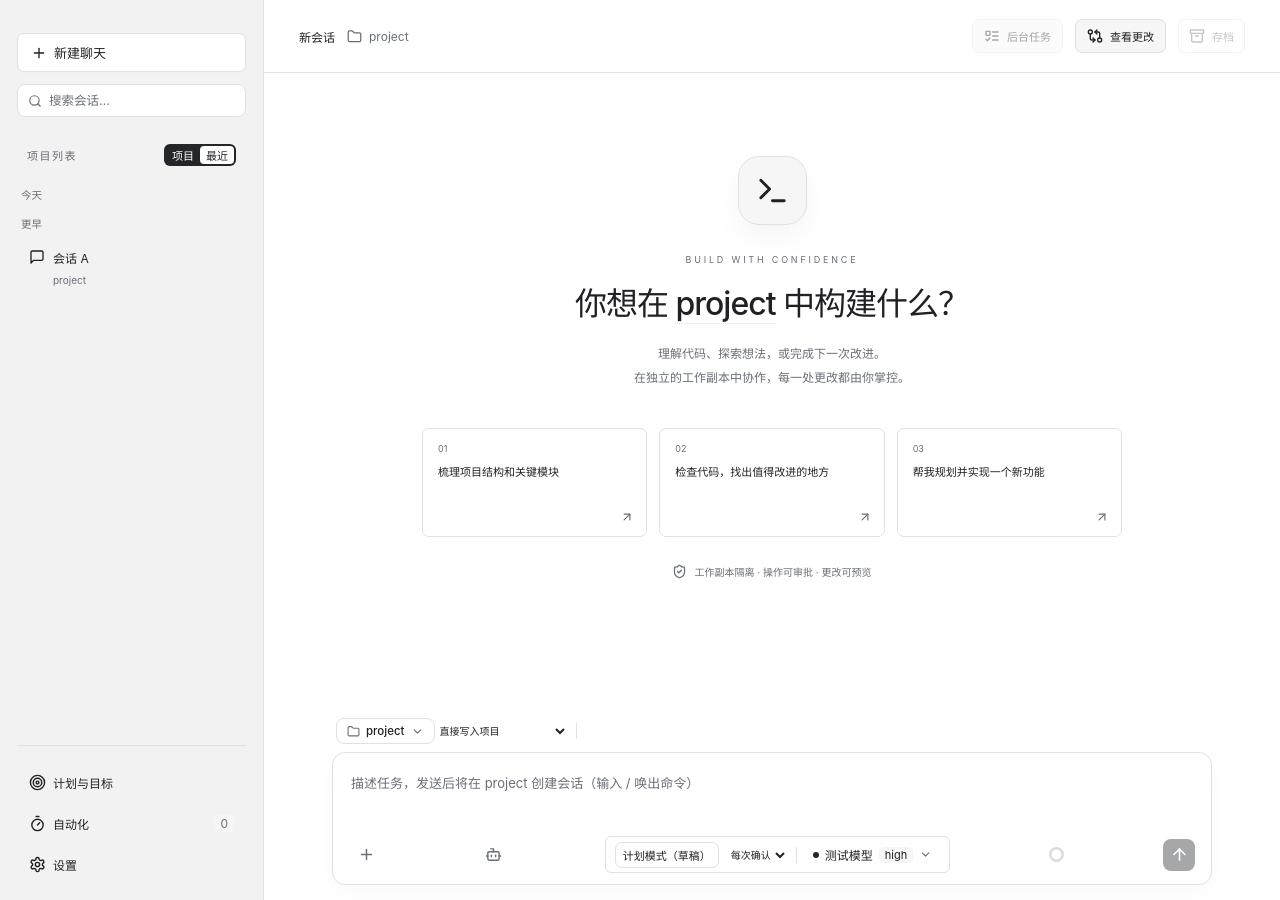
Test: 会话历史不限页数 › 实时事件撑出多页时不误报已到会话开头
This screenshot has width=1280, height=900.
Click the button "会话 A project" at (126, 268), box [17,238,236,297]
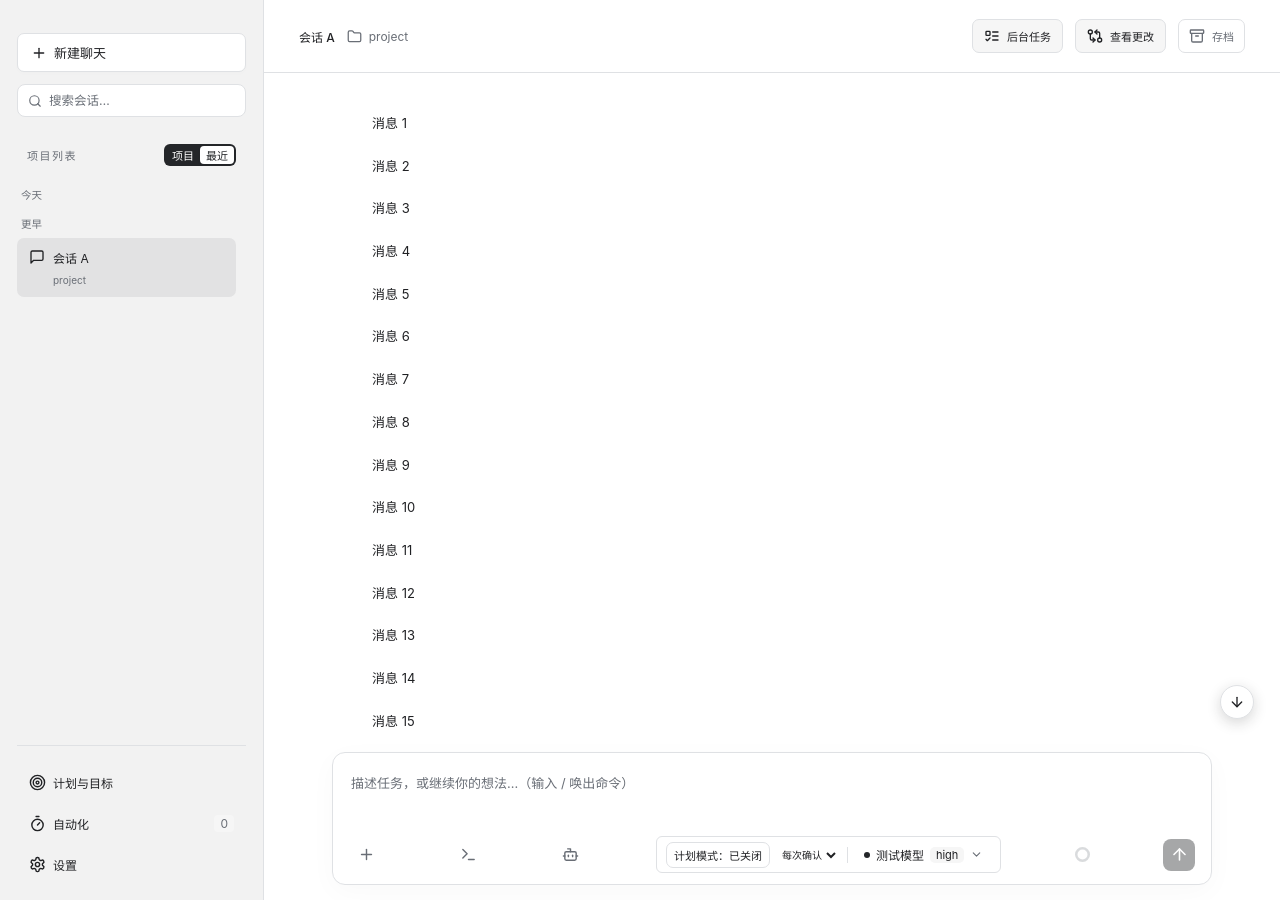
Result: the text "消息 1" is shown at [372,115,407,131]
